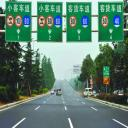speed_limit_100: (14, 13, 24, 28)
speed_limit_60: (100, 13, 110, 29)
speed_limit_80: (68, 14, 78, 28), (46, 14, 54, 30)
